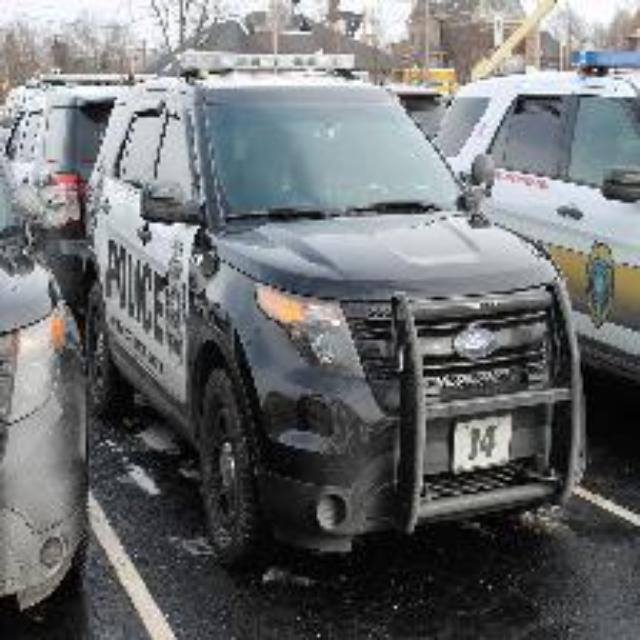emergency: (87, 36, 578, 546)
